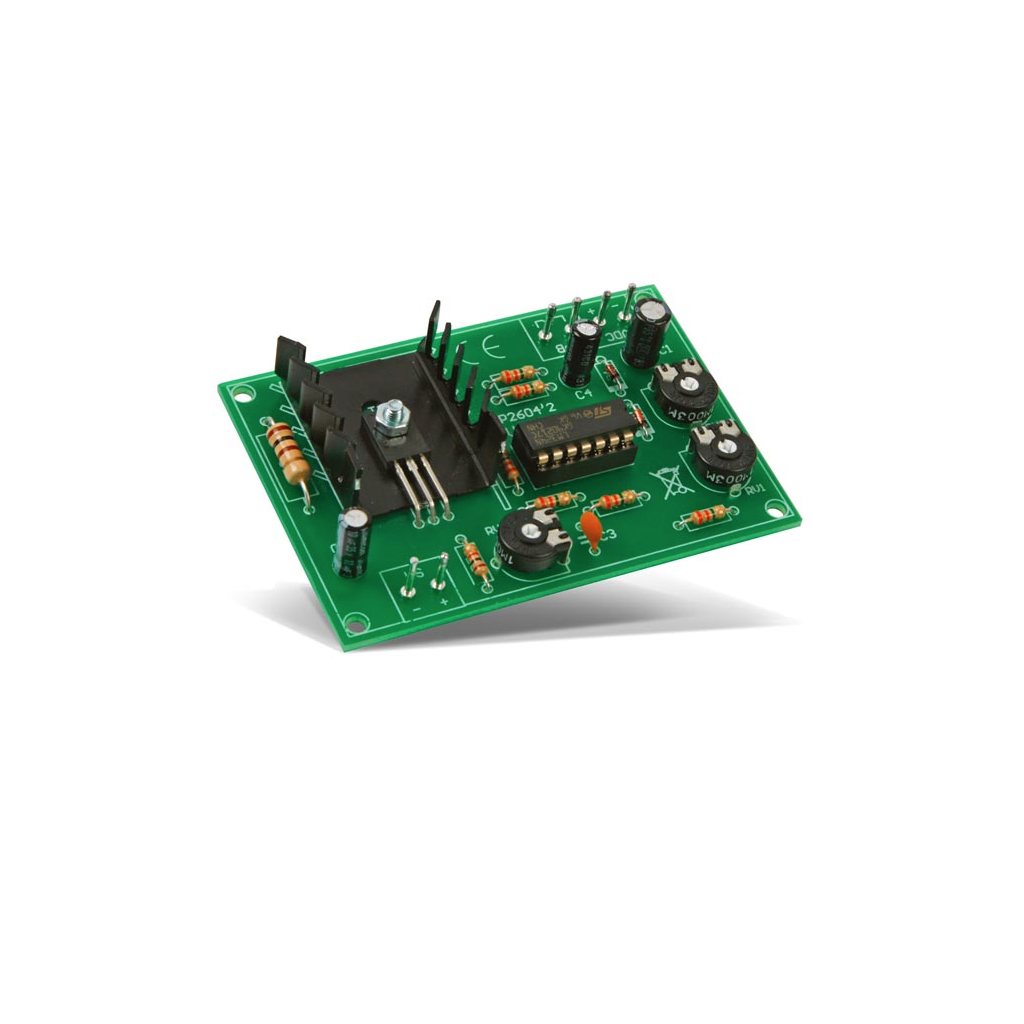Capacitor: (619, 296, 672, 370), (330, 505, 374, 580), (559, 319, 605, 389)
Diode: (603, 359, 623, 386), (630, 406, 649, 430)
Resistor: (264, 419, 315, 490), (462, 540, 491, 581), (687, 503, 730, 528), (499, 449, 524, 487), (531, 491, 575, 512), (506, 379, 550, 400), (596, 489, 638, 511), (495, 364, 538, 385)
